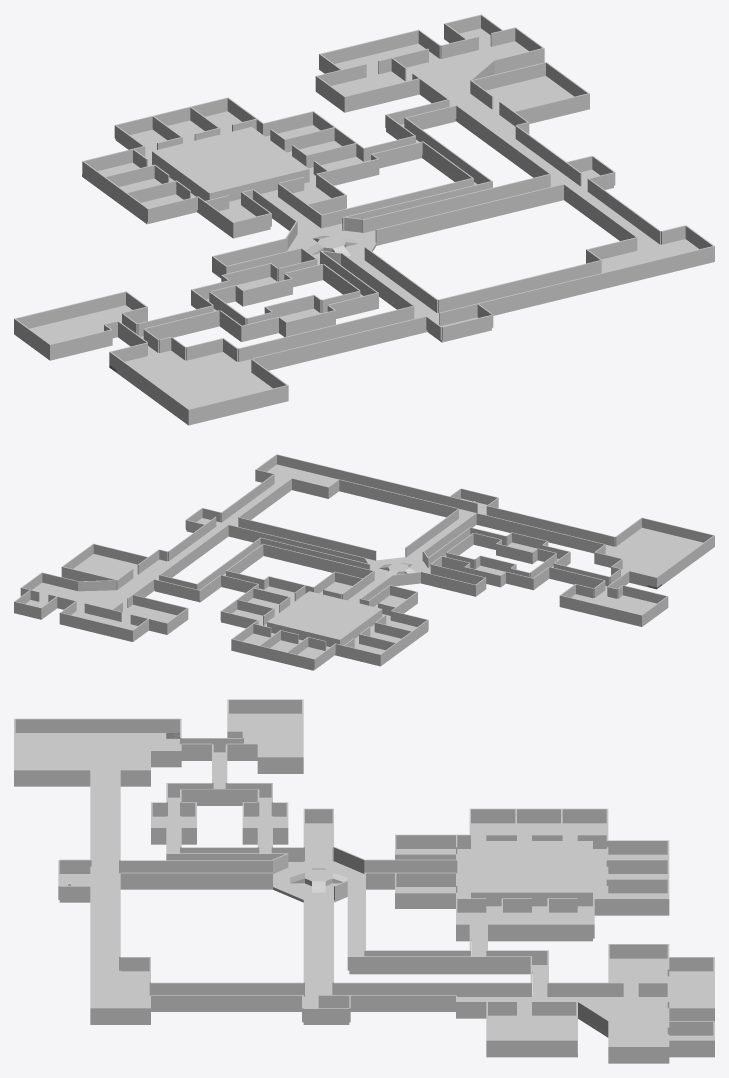
The model's file is Revised map blockoutV5.2 1.fbx.
3 renders of one model, top to bottom at view 1: azimuth 30°, elevation 25°; view 2: azimuth 150°, elevation 25°; view 3: azimuth 270°, elevation 25°, orthographic. The views are drawn at different scales.
Visible parts, largest first — view 1: Living quarters walls, Office Walls, Pathway Down Walls, Walls.003, Office Floor, Living quarters Room.008, Walls, Pathway Right, Walls.001, Pathway Down, Center Platform, Living quarters Room.005 (+5 smaller); view 2: Living quarters walls, Office Walls, Pathway Down Walls, Office Floor, Walls.003, Living quarters Room.008, Walls, Walls.001, Pathway Right, Pathway Down, Center Platform, Object (+4 smaller); view 3: Living quarters walls, Office Walls, Office Floor, Walls.003, Pathway Down, Pathway Down Walls, Pathway Right, Living quarters Room.008, Center Platform, Living quarters Room.006, Pathway Up walls, Object (+10 smaller).
Boxes of the visible parts, x1,y1,x2,y2 form: Living quarters walls: [82, 97, 379, 235]; Office Walls: [315, 14, 589, 144]; Pathway Down Walls: [238, 247, 614, 368]; Walls.003: [362, 125, 660, 249]; Office Floor: [315, 41, 589, 146]; Living quarters Room.008: [152, 139, 259, 201]; Walls: [586, 225, 714, 283]; Pathway Right: [363, 139, 659, 249]; Walls.001: [212, 238, 301, 275]; Pathway Down: [277, 260, 614, 368]; Center Platform: [285, 217, 376, 264]; Living quarters Room.005: [202, 133, 284, 193]; Living quarters walls: [220, 571, 428, 668]; Office Walls: [14, 543, 188, 639]; Pathway Down Walls: [339, 472, 615, 561]; Office Floor: [32, 554, 188, 641]; Walls.003: [168, 474, 376, 565]; Living quarters Room.008: [303, 600, 382, 646]; Walls: [255, 454, 349, 496]; Walls.001: [421, 564, 486, 594]; Pathway Right: [169, 484, 375, 566]; Pathway Down: [339, 489, 586, 561]; Center Platform: [365, 552, 430, 586]; Object: [255, 464, 339, 498]; Living quarters walls: [395, 808, 669, 938]; Office Walls: [456, 944, 714, 1060]; Office Floor: [456, 958, 713, 1063]; Walls.003: [151, 886, 455, 1009]; Pathway Down: [91, 797, 272, 970]; Pathway Down Walls: [90, 770, 272, 970]; Pathway Right: [151, 900, 455, 1011]; Living quarters Room.008: [471, 841, 592, 866]; Center Platform: [272, 847, 364, 902]; Living quarters Room.006: [471, 879, 592, 906]; Pathway Up walls: [364, 859, 455, 886]; Object: [90, 970, 150, 1024].
Size of the model in its own units: 54002 by 1267 by 46002.
